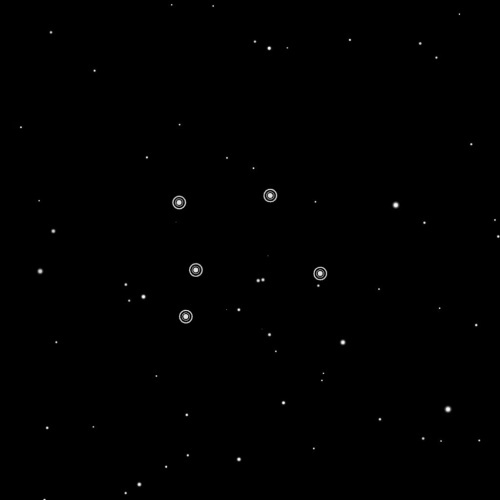libra: (165, 183, 329, 332)
